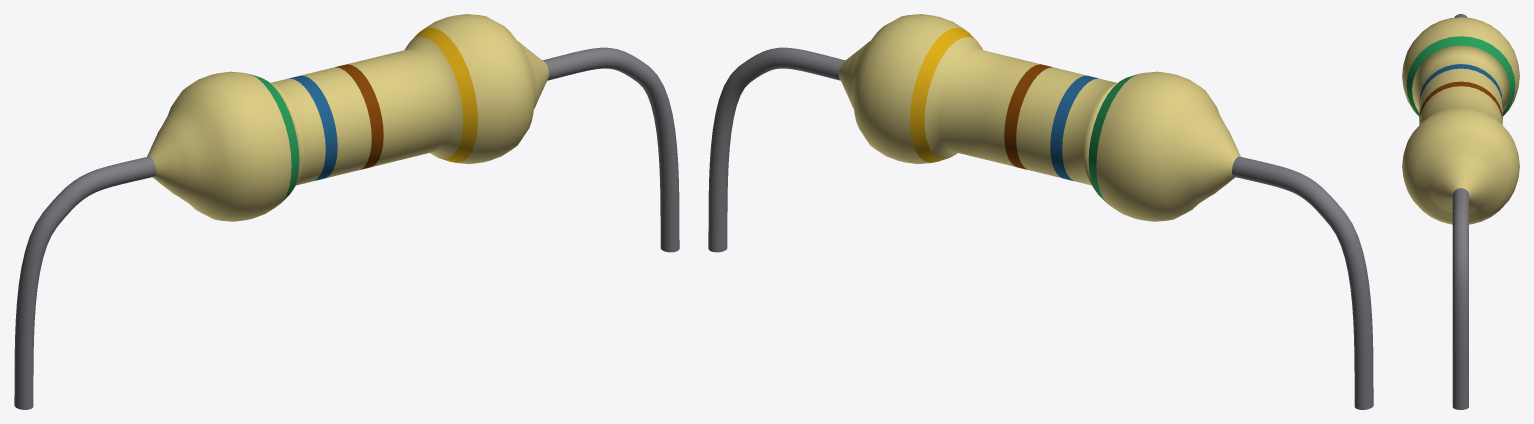
Rendered from Prefab_Resistor560.fbx.
3 views of the same model, side by side, from view 1: azimuth 30°, elevation 25°; view 2: azimuth 150°, elevation 25°; view 3: azimuth 270°, elevation 25° (orthographic). The views are drawn at different scales.
Visible parts, largest first — view 1: Resistor.002, Patas.002, Tolerancia.002, 2Cifra.002, 3Cifra.002, 1Cifra.002; view 2: Resistor.002, Patas.002, Tolerancia.002, 3Cifra.002, 2Cifra.002, 1Cifra.002; view 3: Resistor.002, Patas.002, 1Cifra.002, 3Cifra.002, 2Cifra.002.
Boxes of the visible parts, <box> form: Resistor.002: <box>147,14,548,221</box>; Patas.002: <box>14,47,679,409</box>; Tolerancia.002: <box>411,27,477,162</box>; 2Cifra.002: <box>289,75,337,180</box>; 3Cifra.002: <box>335,64,383,169</box>; 1Cifra.002: <box>251,74,299,201</box>; Resistor.002: <box>839,14,1240,221</box>; Patas.002: <box>708,47,1373,409</box>; Tolerancia.002: <box>910,27,976,162</box>; 3Cifra.002: <box>1004,64,1052,169</box>; 2Cifra.002: <box>1050,75,1098,180</box>; 1Cifra.002: <box>1088,74,1136,201</box>; Resistor.002: <box>1402,17,1519,224</box>; Patas.002: <box>1452,14,1468,409</box>; 1Cifra.002: <box>1406,36,1515,116</box>; 3Cifra.002: <box>1419,81,1502,121</box>; 2Cifra.002: <box>1419,64,1502,104</box>.
Size of the model in its own units: 27.27 by 55.36 by 139.
